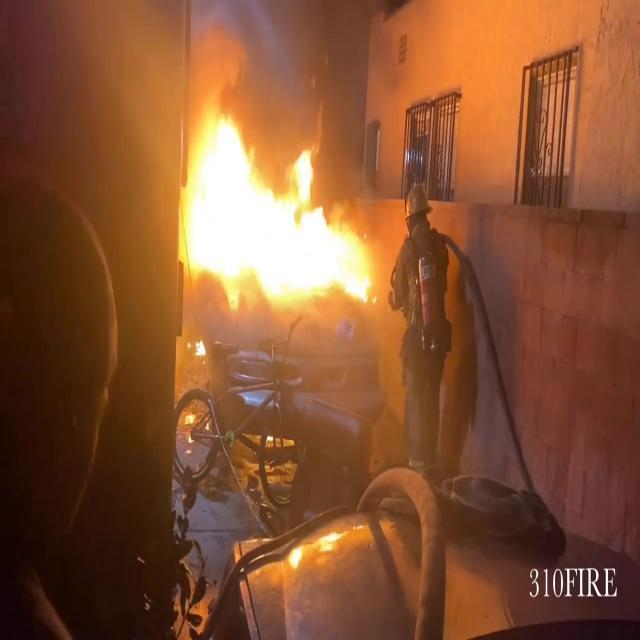Fire: (170, 102, 382, 310)
